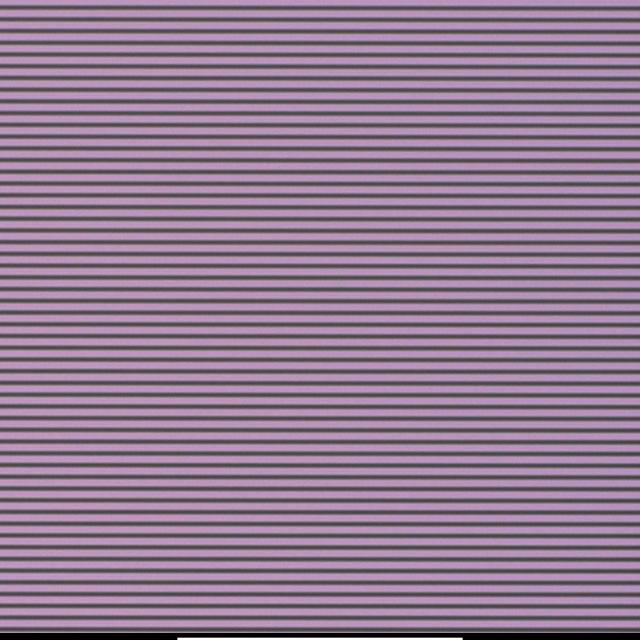nonvisual: (334, 274, 346, 290)
